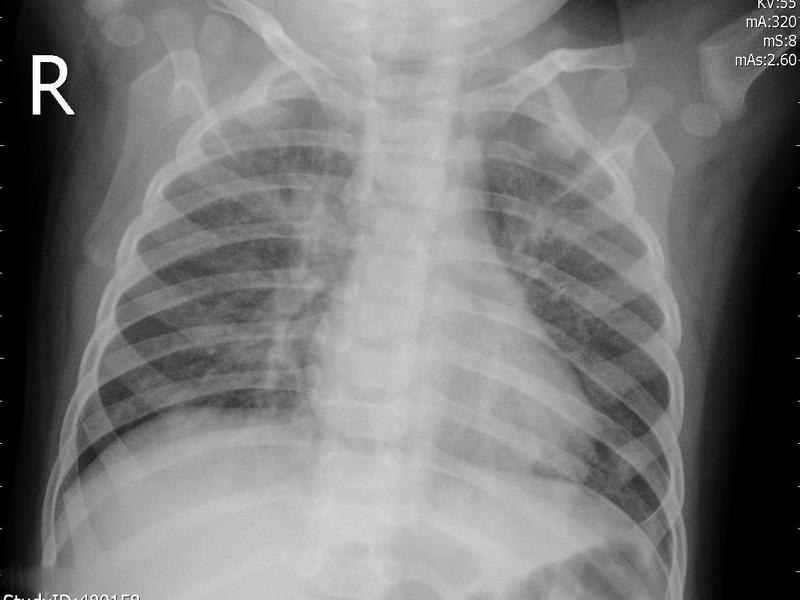PNEUMONIA: (202, 159, 344, 432), (491, 161, 630, 322), (598, 325, 672, 508)
